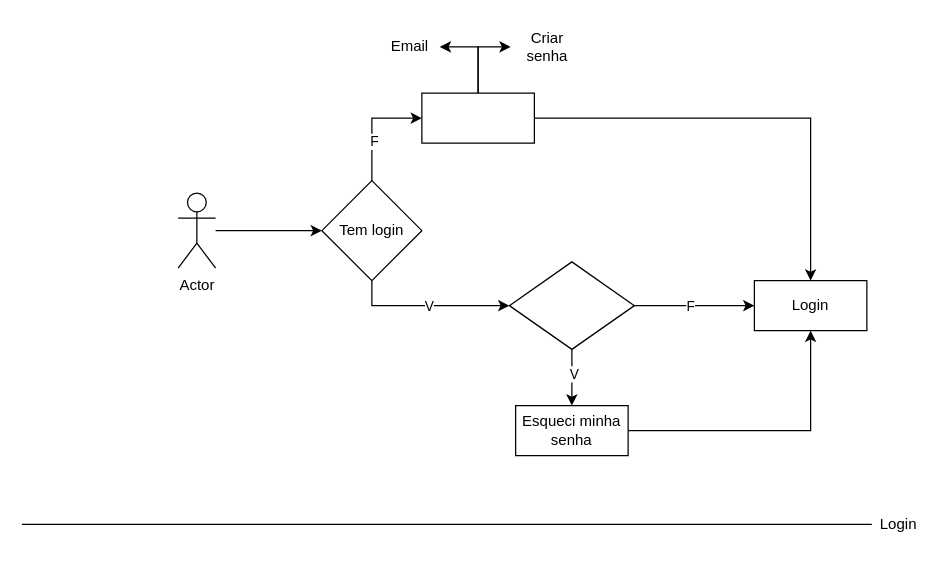
The diagram is 951 pixels wide and 564 high, and some of its shapes have lost their labels. Here are the shapes that lost their labels. From the top down, the centre of each, then its label:
point (477, 117): Cadastro
point (571, 305): Esqueceu a senha?
